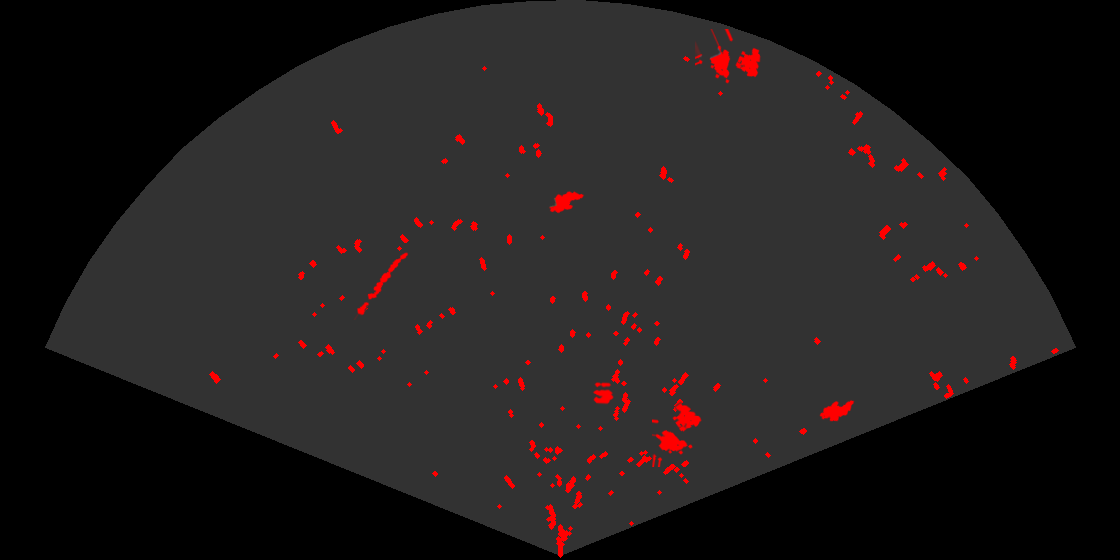AUV: (547, 189, 586, 215), (818, 398, 856, 423)
ball: (591, 381, 615, 405)
cage: (695, 29, 762, 85), (652, 401, 703, 467)
chain: (352, 251, 410, 320)
